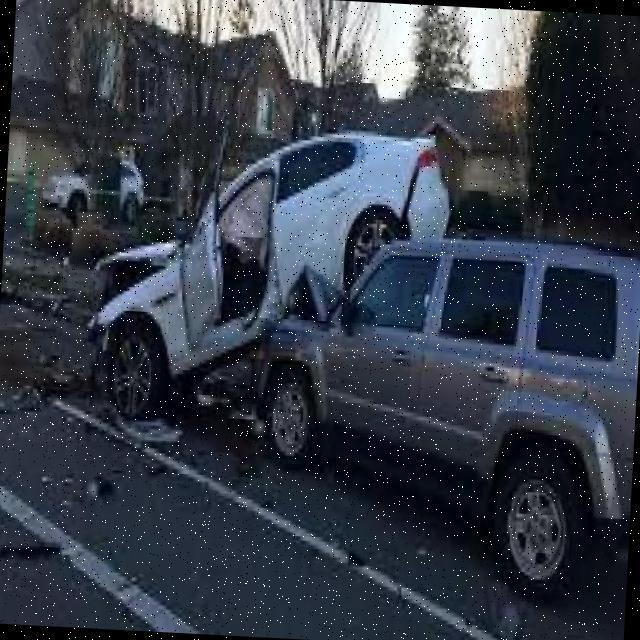accident: (98, 121, 514, 460)
